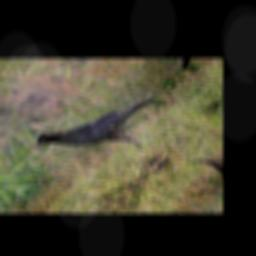Crow: (26, 80, 187, 174)
